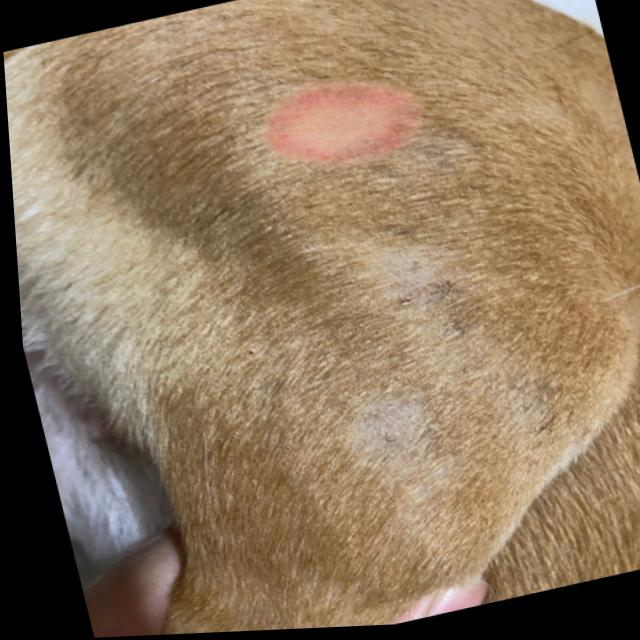ringworm: (217, 40, 485, 216)
